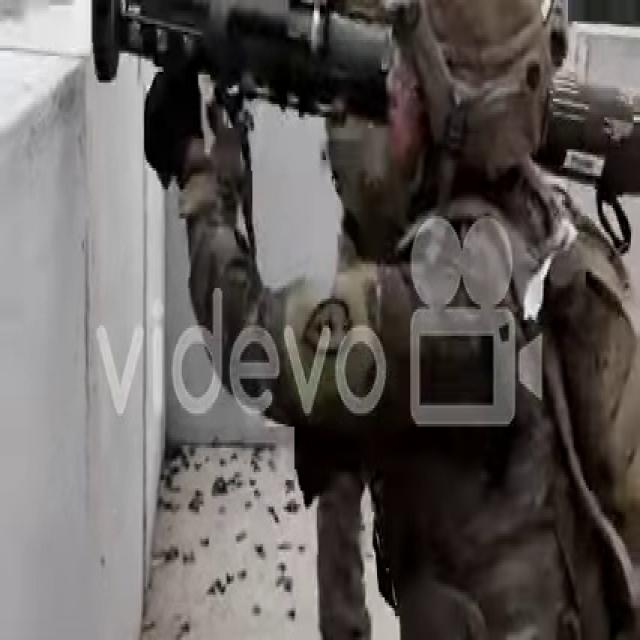bazooka: (85, 1, 640, 228)
